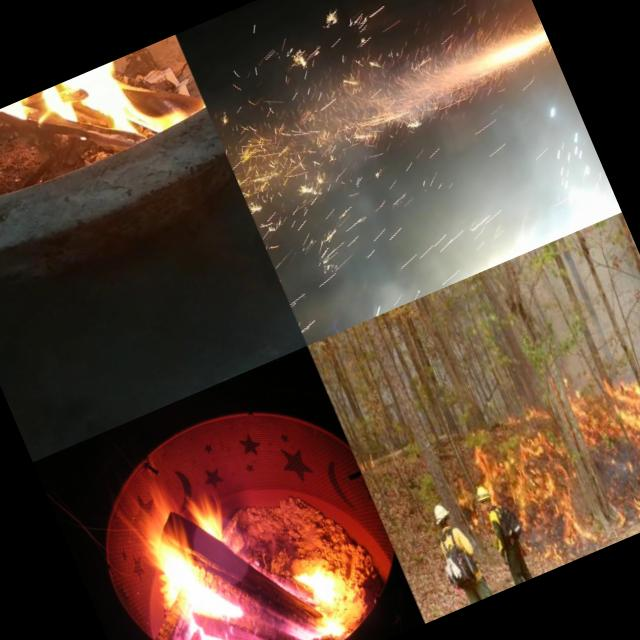fire: (433, 341, 640, 586), (111, 438, 357, 640), (0, 34, 208, 193), (344, 230, 428, 318)
